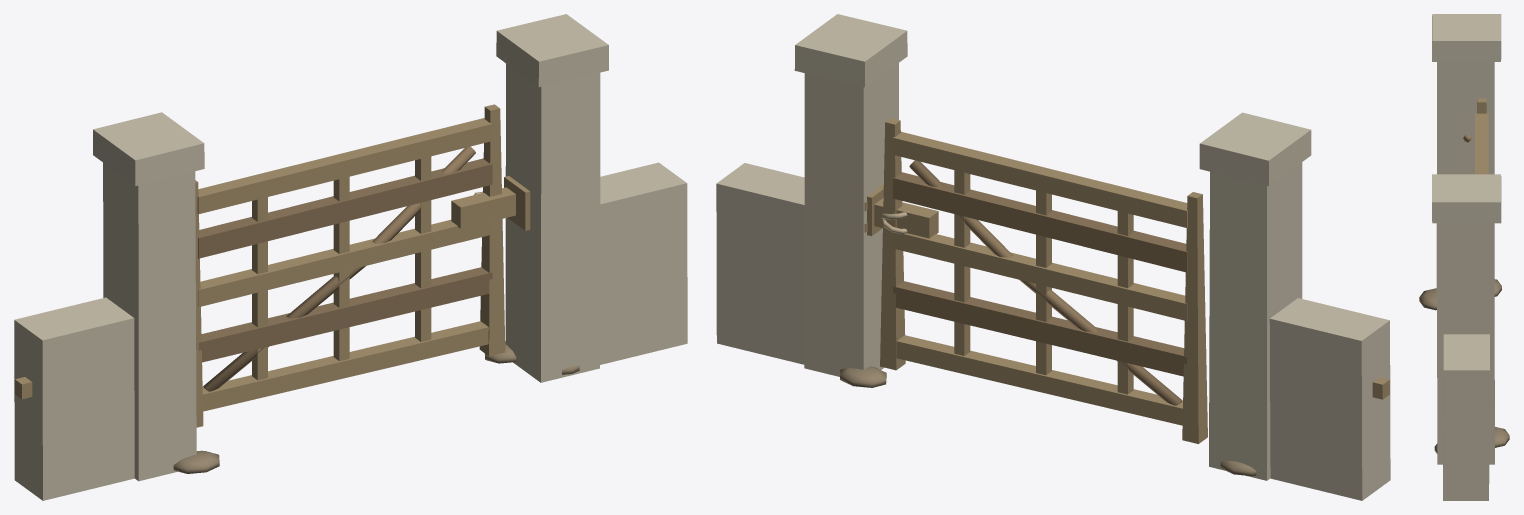
File: sheep_gate.glb
The picture shows the model from 3 angles, left to right: view 1: azimuth 30°, elevation 25°; view 2: azimuth 150°, elevation 25°; view 3: azimuth 270°, elevation 25°; orthographic projection. The views are drawn at different scales.
Parts seen in each view (by area): view 1: Sheep_Posts, Sheep_Leaf, Sheep_Wings, Sheep_Latch; view 2: Sheep_Posts, Sheep_Leaf, Sheep_Wings, Sheep_Latch; view 3: Sheep_Posts, Sheep_Wings, Sheep_Leaf.
Part boxes in pixels (x1,y1,x2,y2): Sheep_Posts: [93, 14, 608, 481]; Sheep_Leaf: [195, 104, 505, 427]; Sheep_Wings: [14, 162, 687, 500]; Sheep_Latch: [451, 176, 530, 230]; Sheep_Posts: [794, 14, 1311, 480]; Sheep_Leaf: [880, 118, 1207, 443]; Sheep_Wings: [716, 163, 1390, 500]; Sheep_Latch: [864, 184, 938, 238]; Sheep_Posts: [1419, 14, 1509, 464]; Sheep_Wings: [1443, 334, 1489, 500]; Sheep_Leaf: [1475, 98, 1488, 174].
Bounding box in the file's own units: 3.21 × 1.52 × 0.4712.
